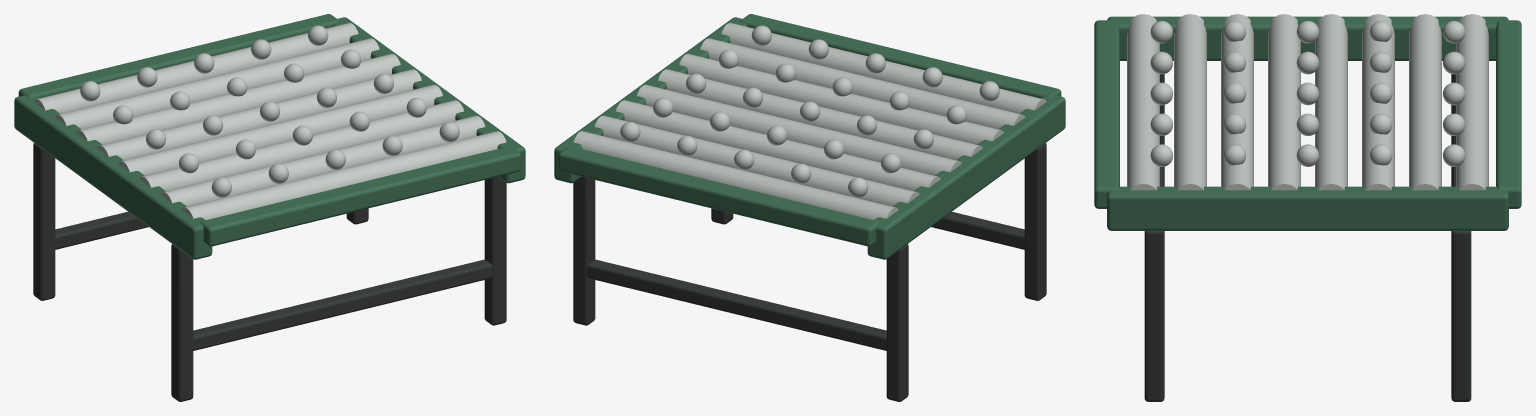
Rendered from sawmill-and-timber-yard-roller-transfer-corner-a63d8277__31173.glb.
3 views of the same model, side by side, from view 1: azimuth 30°, elevation 25°; view 2: azimuth 150°, elevation 25°; view 3: azimuth 270°, elevation 25° (orthographic). The views are drawn at different scales.
Visible parts, largest first — view 1: roller-transfer-corner; view 2: roller-transfer-corner; view 3: roller-transfer-corner.
Boxes of the visible parts, x1,y1,x2,y2 form: roller-transfer-corner: (14,14,525,401); roller-transfer-corner: (554,14,1065,401); roller-transfer-corner: (1094,14,1521,401).
Bounding box in the file's own units: 1.17 × 0.696 × 1.17.
